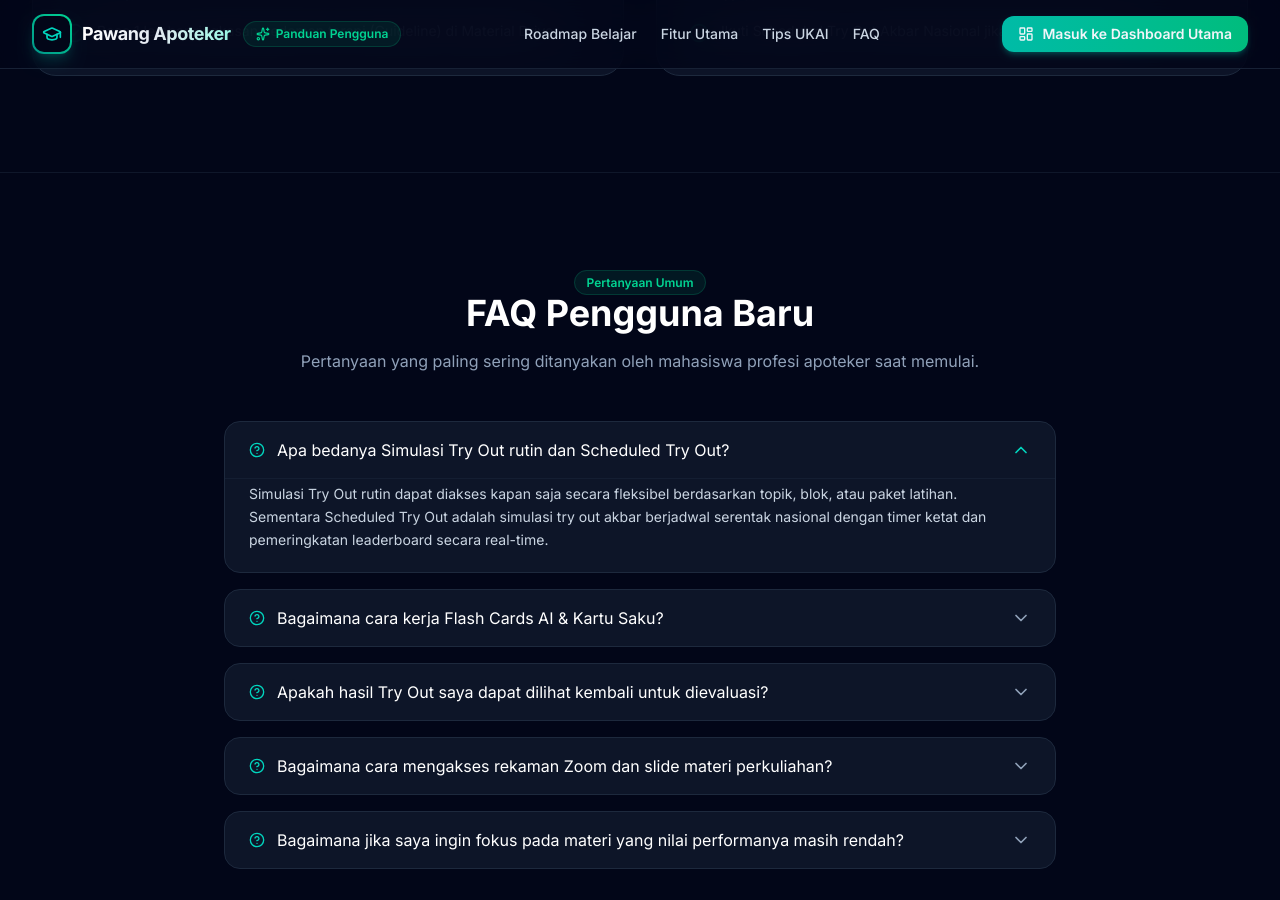
Test: WelcomeTutorialPage › faq accordion toggles open and closed on click
(page scrolled)
Expected: the text "Simulasi Try Out rutin dapat diakses kapan saja" is shown, [249,485,986,548]
Click the button "Apa bedanya Simulasi Try Out rutin dan Scheduled Try Out?" at [640, 450], box [225,422,1055,478]
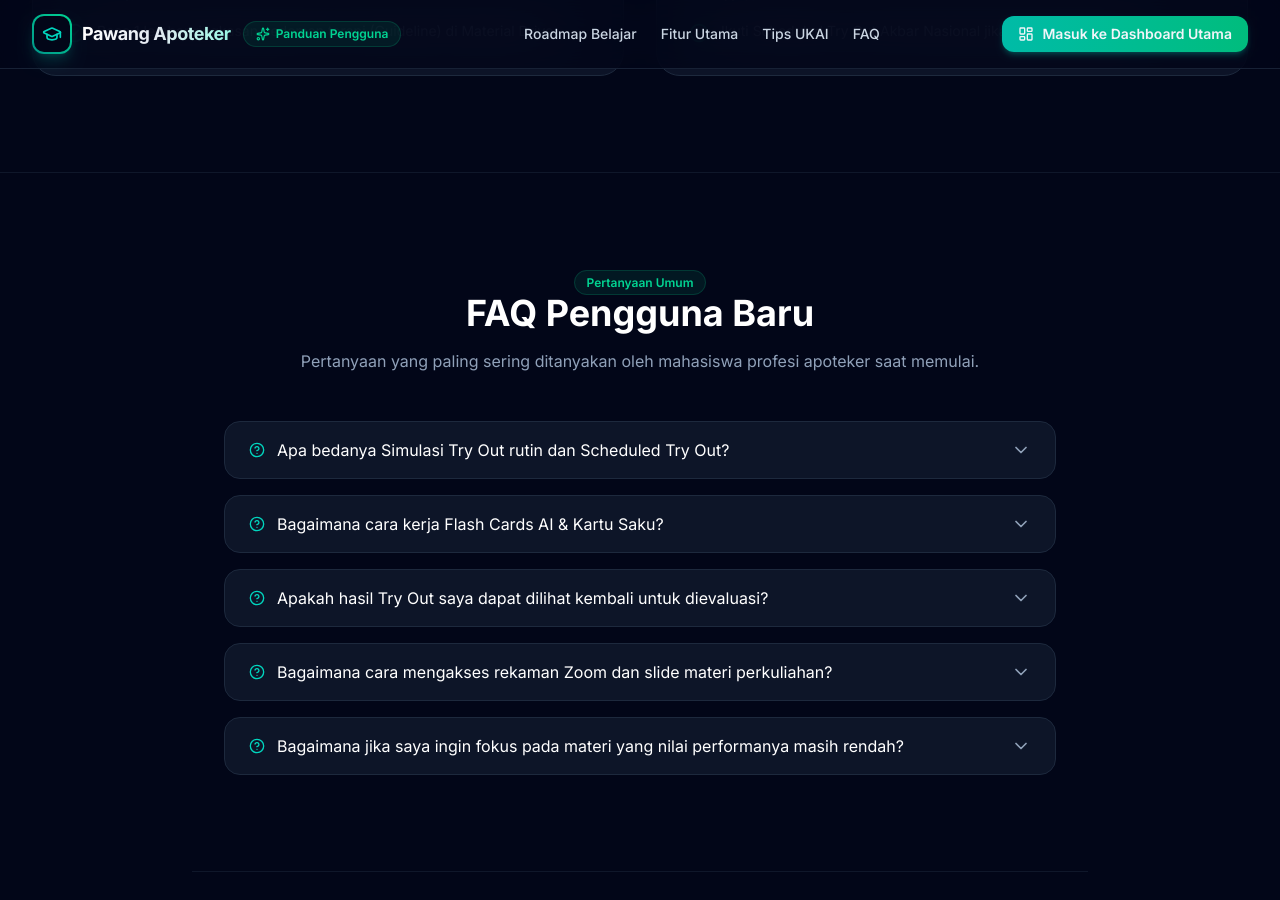
Expected: the text "Simulasi Try Out rutin dapat diakses kapan saja" is gone
